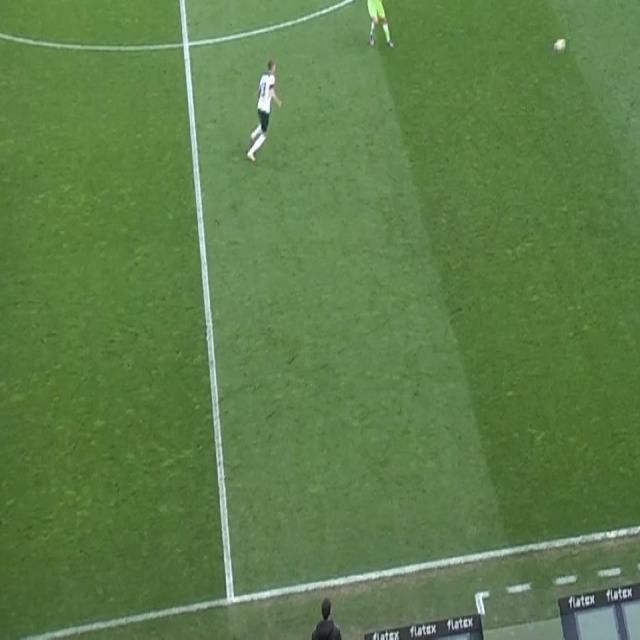ball: (551, 38, 567, 54)
